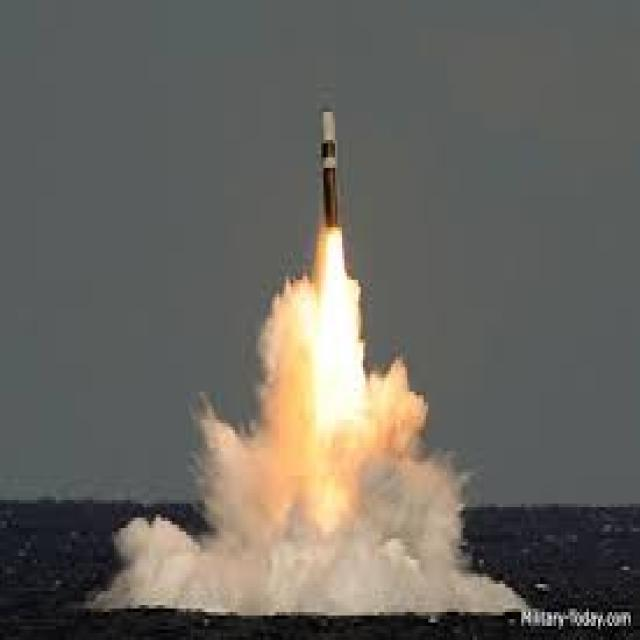missile: (319, 104, 350, 232)
